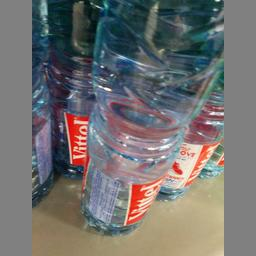water: (78, 0, 220, 237)
